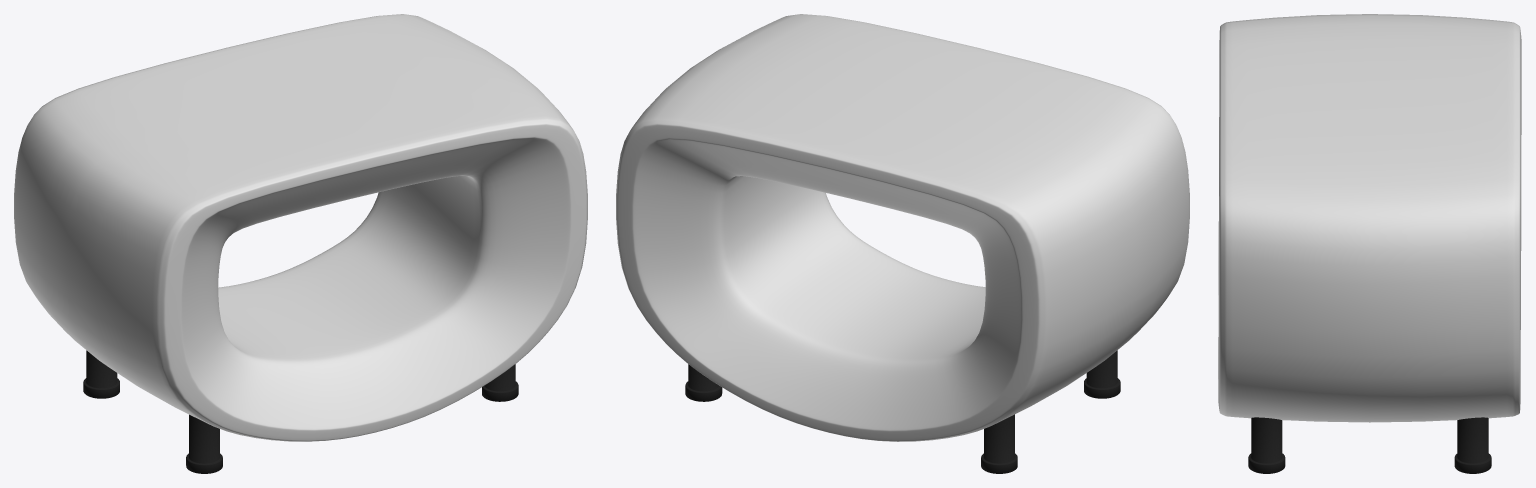
The model's file is portal_table.glb.
3 renders of one model, left to right at view 1: azimuth 30°, elevation 25°; view 2: azimuth 150°, elevation 25°; view 3: azimuth 270°, elevation 25°, orthographic.
Parts seen in each view (by area): view 1: Table, Table_Legs; view 2: Table, Table_Legs; view 3: Table, Table_Legs.
Part boxes in pixels (<box>): Table: <box>14,14,587,441</box>; Table_Legs: <box>83,350,518,473</box>; Table: <box>616,14,1189,441</box>; Table_Legs: <box>685,350,1120,473</box>; Table: <box>1218,14,1521,422</box>; Table_Legs: <box>1248,417,1491,473</box>.
Bounding box in the file's own units: 207 × 124 × 116.
Materials: 2 (2 with a texture image).
